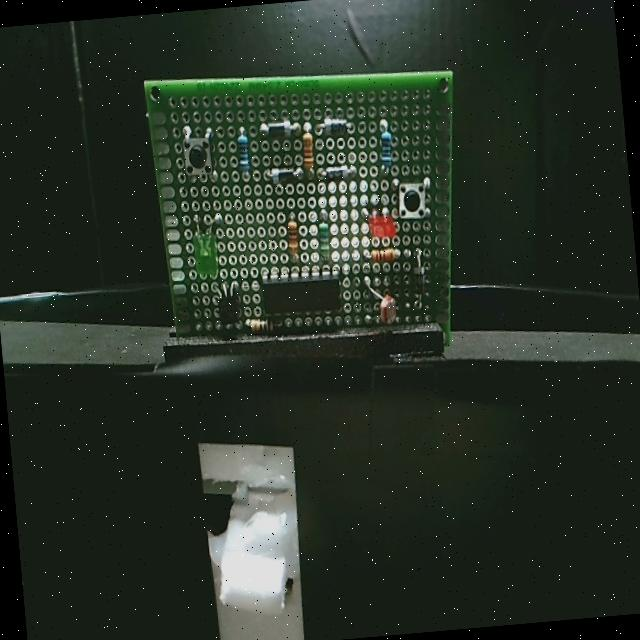IC: (258, 260, 346, 320)
cds: (361, 272, 401, 331)
diode: (408, 245, 431, 314), (255, 117, 303, 146), (262, 161, 304, 187), (312, 116, 357, 140), (315, 162, 359, 186)
led: (183, 210, 229, 280), (358, 203, 401, 245)
resistor: (230, 122, 256, 185), (312, 205, 334, 268), (376, 116, 396, 179), (282, 209, 303, 267), (300, 118, 318, 184), (243, 312, 286, 338), (361, 244, 404, 266)
switch: (179, 124, 220, 188), (389, 172, 437, 226)
transistor: (209, 278, 245, 333)
